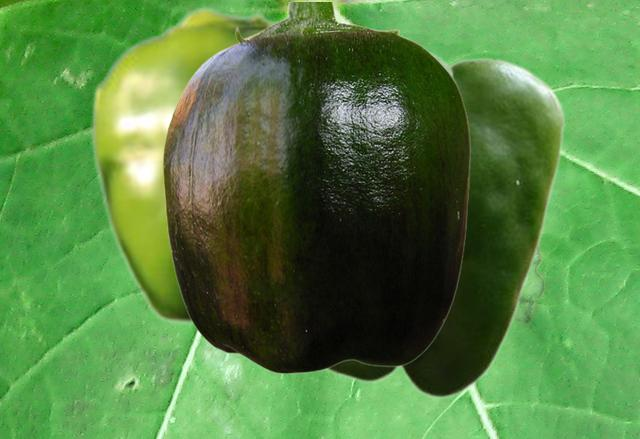bell_pepper: (162, 2, 470, 373), (326, 49, 565, 398), (90, 6, 278, 324)
